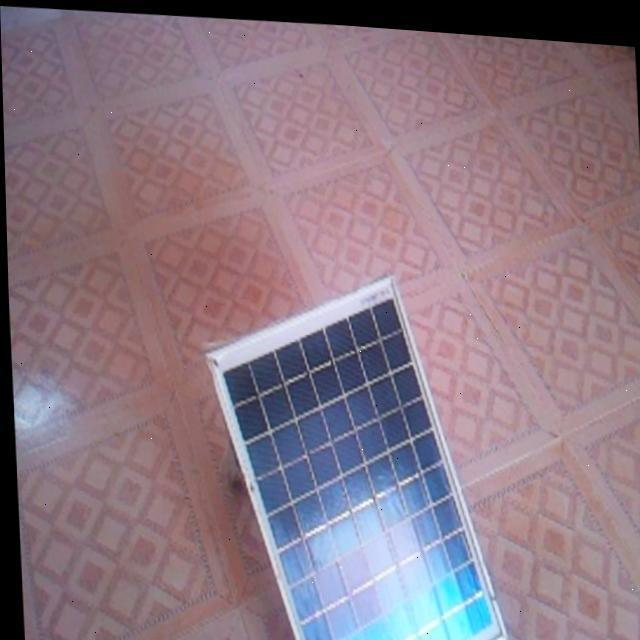Normal Solar Panel: (202, 256, 504, 640)
